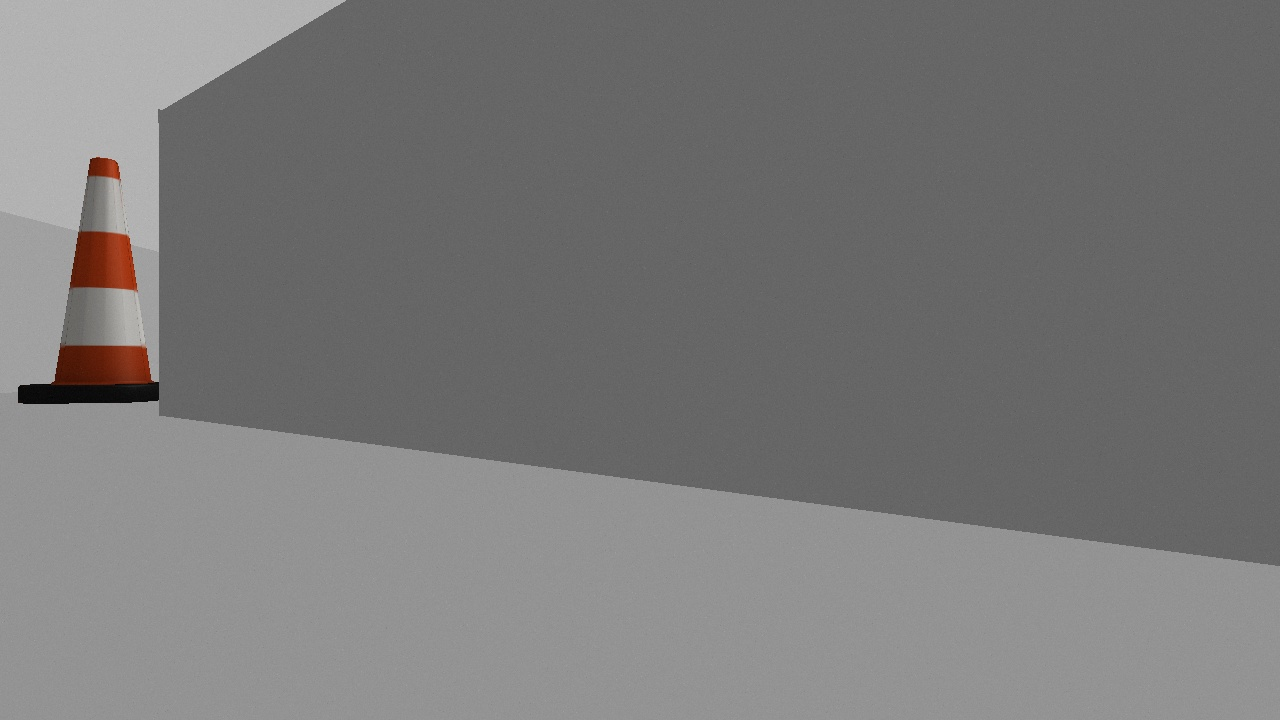barricade: (15, 152, 162, 405)
